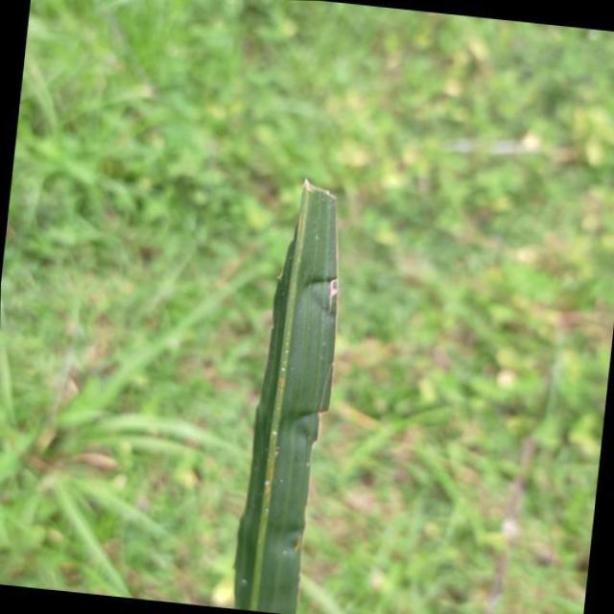Boron: (228, 175, 350, 614)
